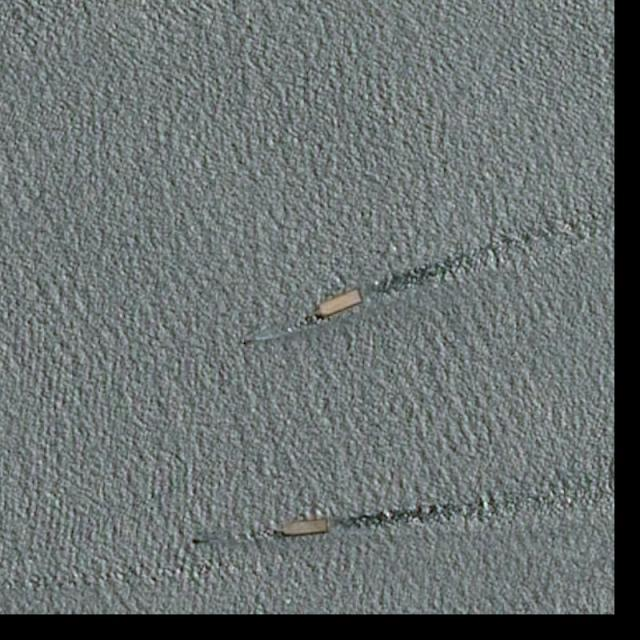ship: (314, 289, 365, 321), (275, 518, 329, 538), (238, 335, 253, 346), (192, 538, 202, 545)
